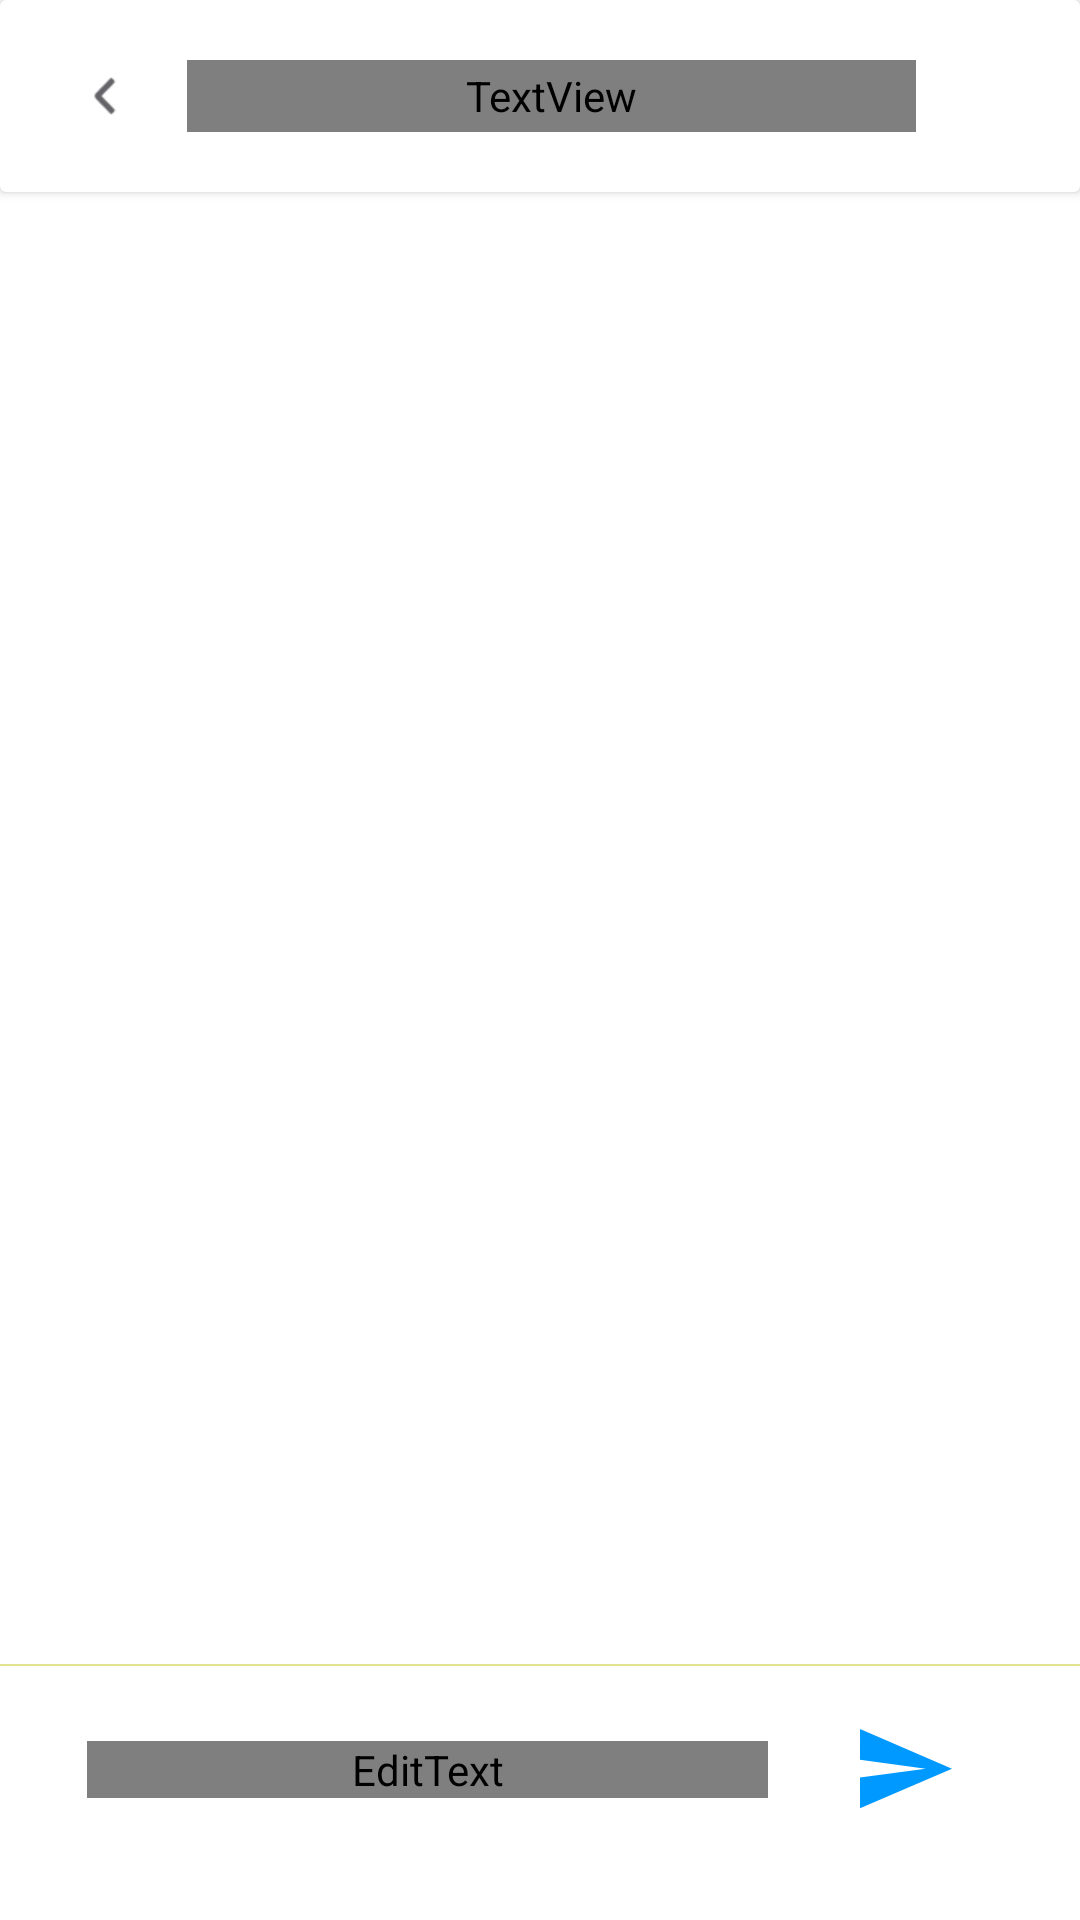

Named icons in this screenshot (1080w x 1920h) and their bounding boxes, detection(x1, y1, x2, y2):
array back: detection(94, 78, 116, 114)
send: detection(860, 1729, 952, 1808)
